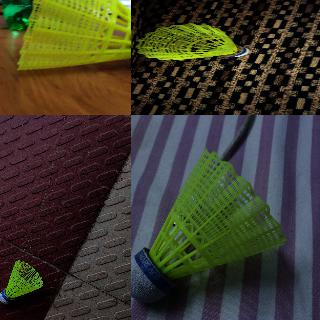shuttlecock: (131, 149, 286, 304), (16, 0, 130, 70), (137, 23, 249, 60), (0, 260, 44, 304)
